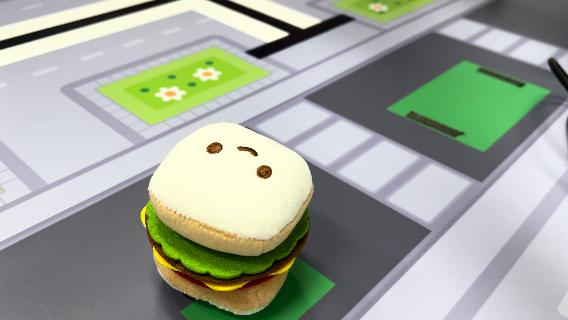sandwich: (140, 120, 317, 314)
